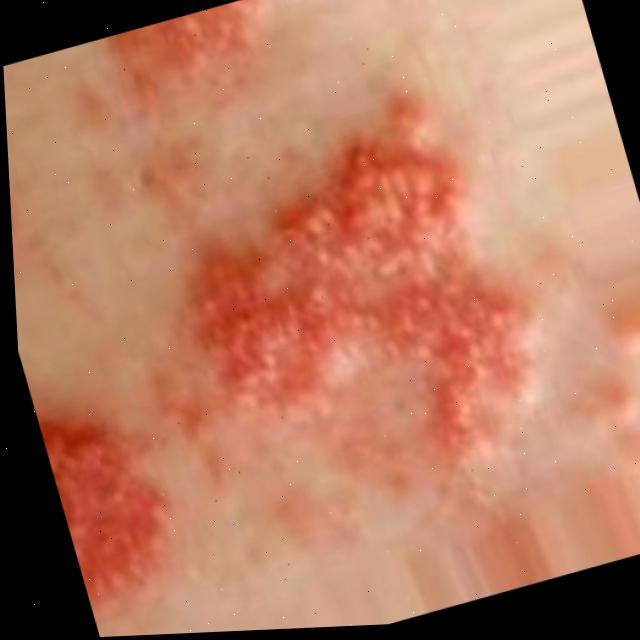Shingles: (163, 137, 547, 494), (45, 423, 182, 598), (107, 0, 277, 80)
